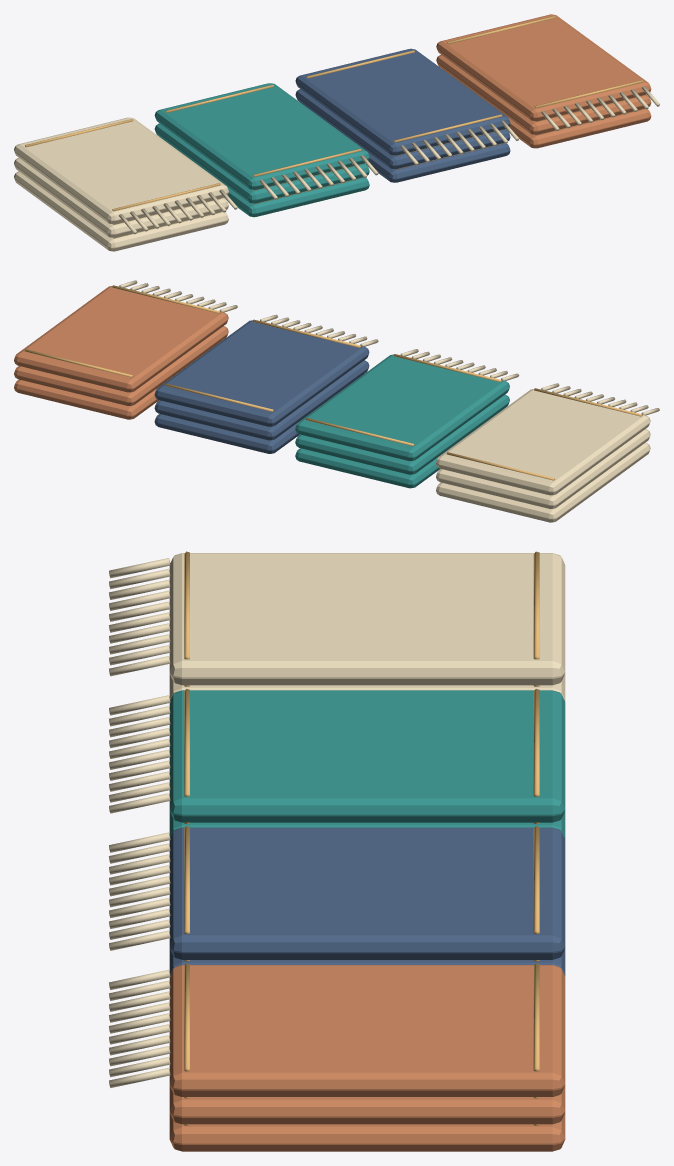
Rendered from textile-display.glb.
The picture shows the model from 3 angles, top to bottom: view 1: azimuth 30°, elevation 25°; view 2: azimuth 150°, elevation 25°; view 3: azimuth 270°, elevation 25°; orthographic projection. The views are drawn at different scales.
Parts seen in each view (by area): view 1: textile-display__linen, textile-display__clay, textile-display__indigo, textile-display__teal, textile-display__ochre; view 2: textile-display__linen, textile-display__clay, textile-display__indigo, textile-display__teal, textile-display__ochre; view 3: textile-display__linen, textile-display__clay, textile-display__teal, textile-display__indigo, textile-display__ochre.
Boxes of the visible parts, bbox=[...] form: textile-display__linen: bbox=[14, 86, 659, 251]; textile-display__clay: bbox=[436, 14, 651, 148]; textile-display__indigo: bbox=[295, 48, 510, 182]; textile-display__teal: bbox=[154, 83, 369, 217]; textile-display__ochre: bbox=[25, 16, 642, 238]; textile-display__linen: bbox=[119, 280, 659, 522]; textile-display__clay: bbox=[14, 286, 228, 419]; textile-display__indigo: bbox=[154, 320, 369, 453]; textile-display__teal: bbox=[295, 354, 509, 488]; textile-display__ochre: bbox=[24, 285, 642, 480]; textile-display__linen: bbox=[109, 553, 565, 1087]; textile-display__clay: bbox=[169, 965, 565, 1151]; textile-display__teal: bbox=[169, 690, 565, 838]; textile-display__indigo: bbox=[169, 827, 565, 975]; textile-display__ochre: bbox=[184, 551, 539, 1125].
Bounding box in the file's own units: 3.55 × 0.2561 × 1.29.
